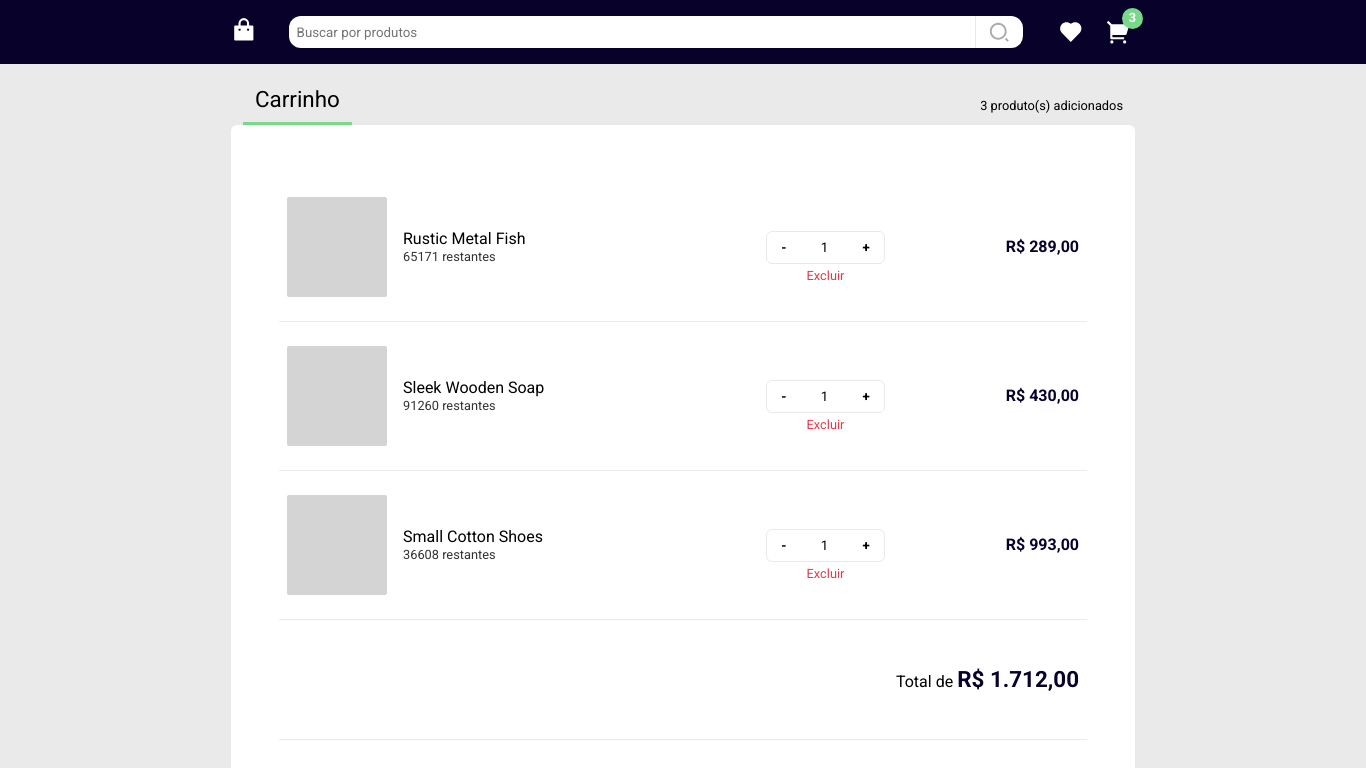
Test: Cart › Cart with products › Should change quantity by typing on field
This screenshot has width=1366, height=768.
Step 1. Press Backspace in the field with test id "quantity-input" in the row of "289,00", box [801,232,849,263]
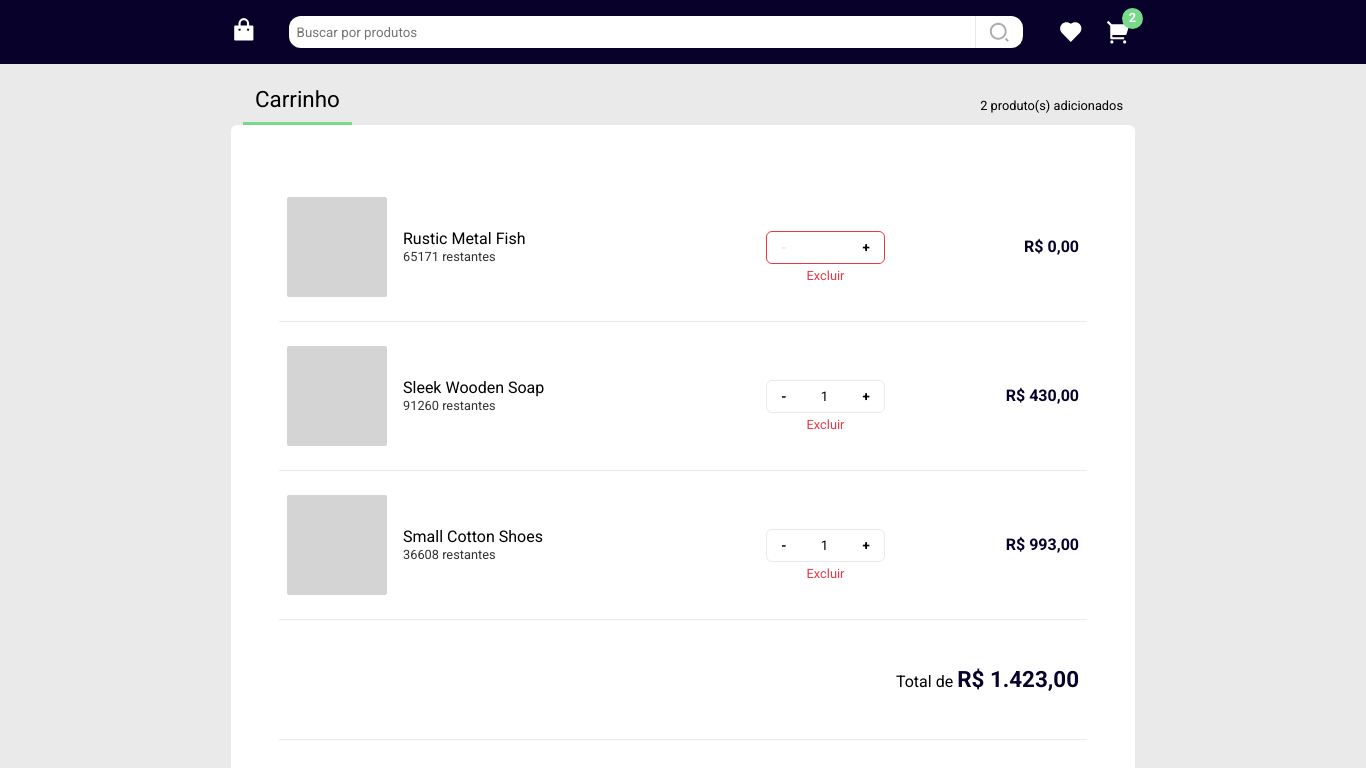
Step 2. Type "2" into the field with test id "quantity-input" in the row of "Rustic Metal Fish" → (825, 248), box [801,232,849,263]
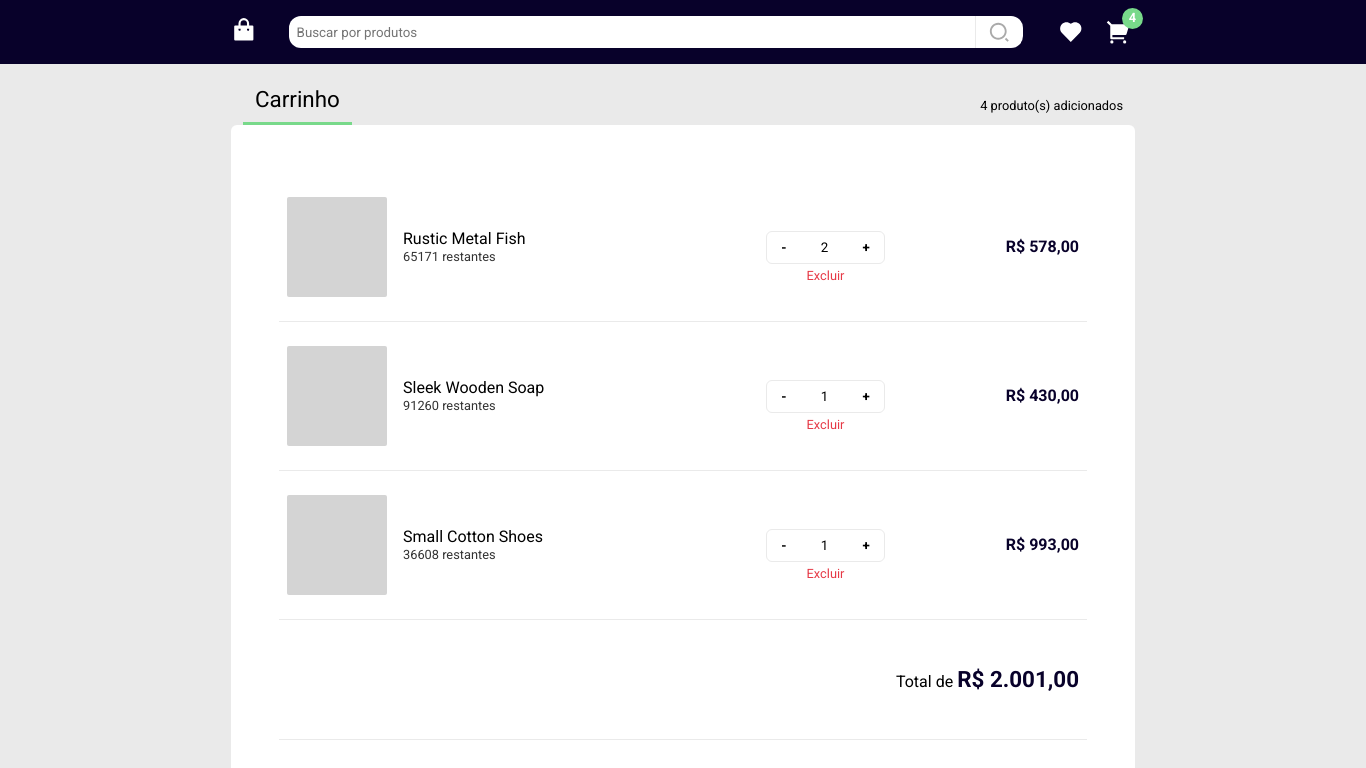
Check: the text with test id "cart-products-label" reads "4", box [1122,8,1143,29]
